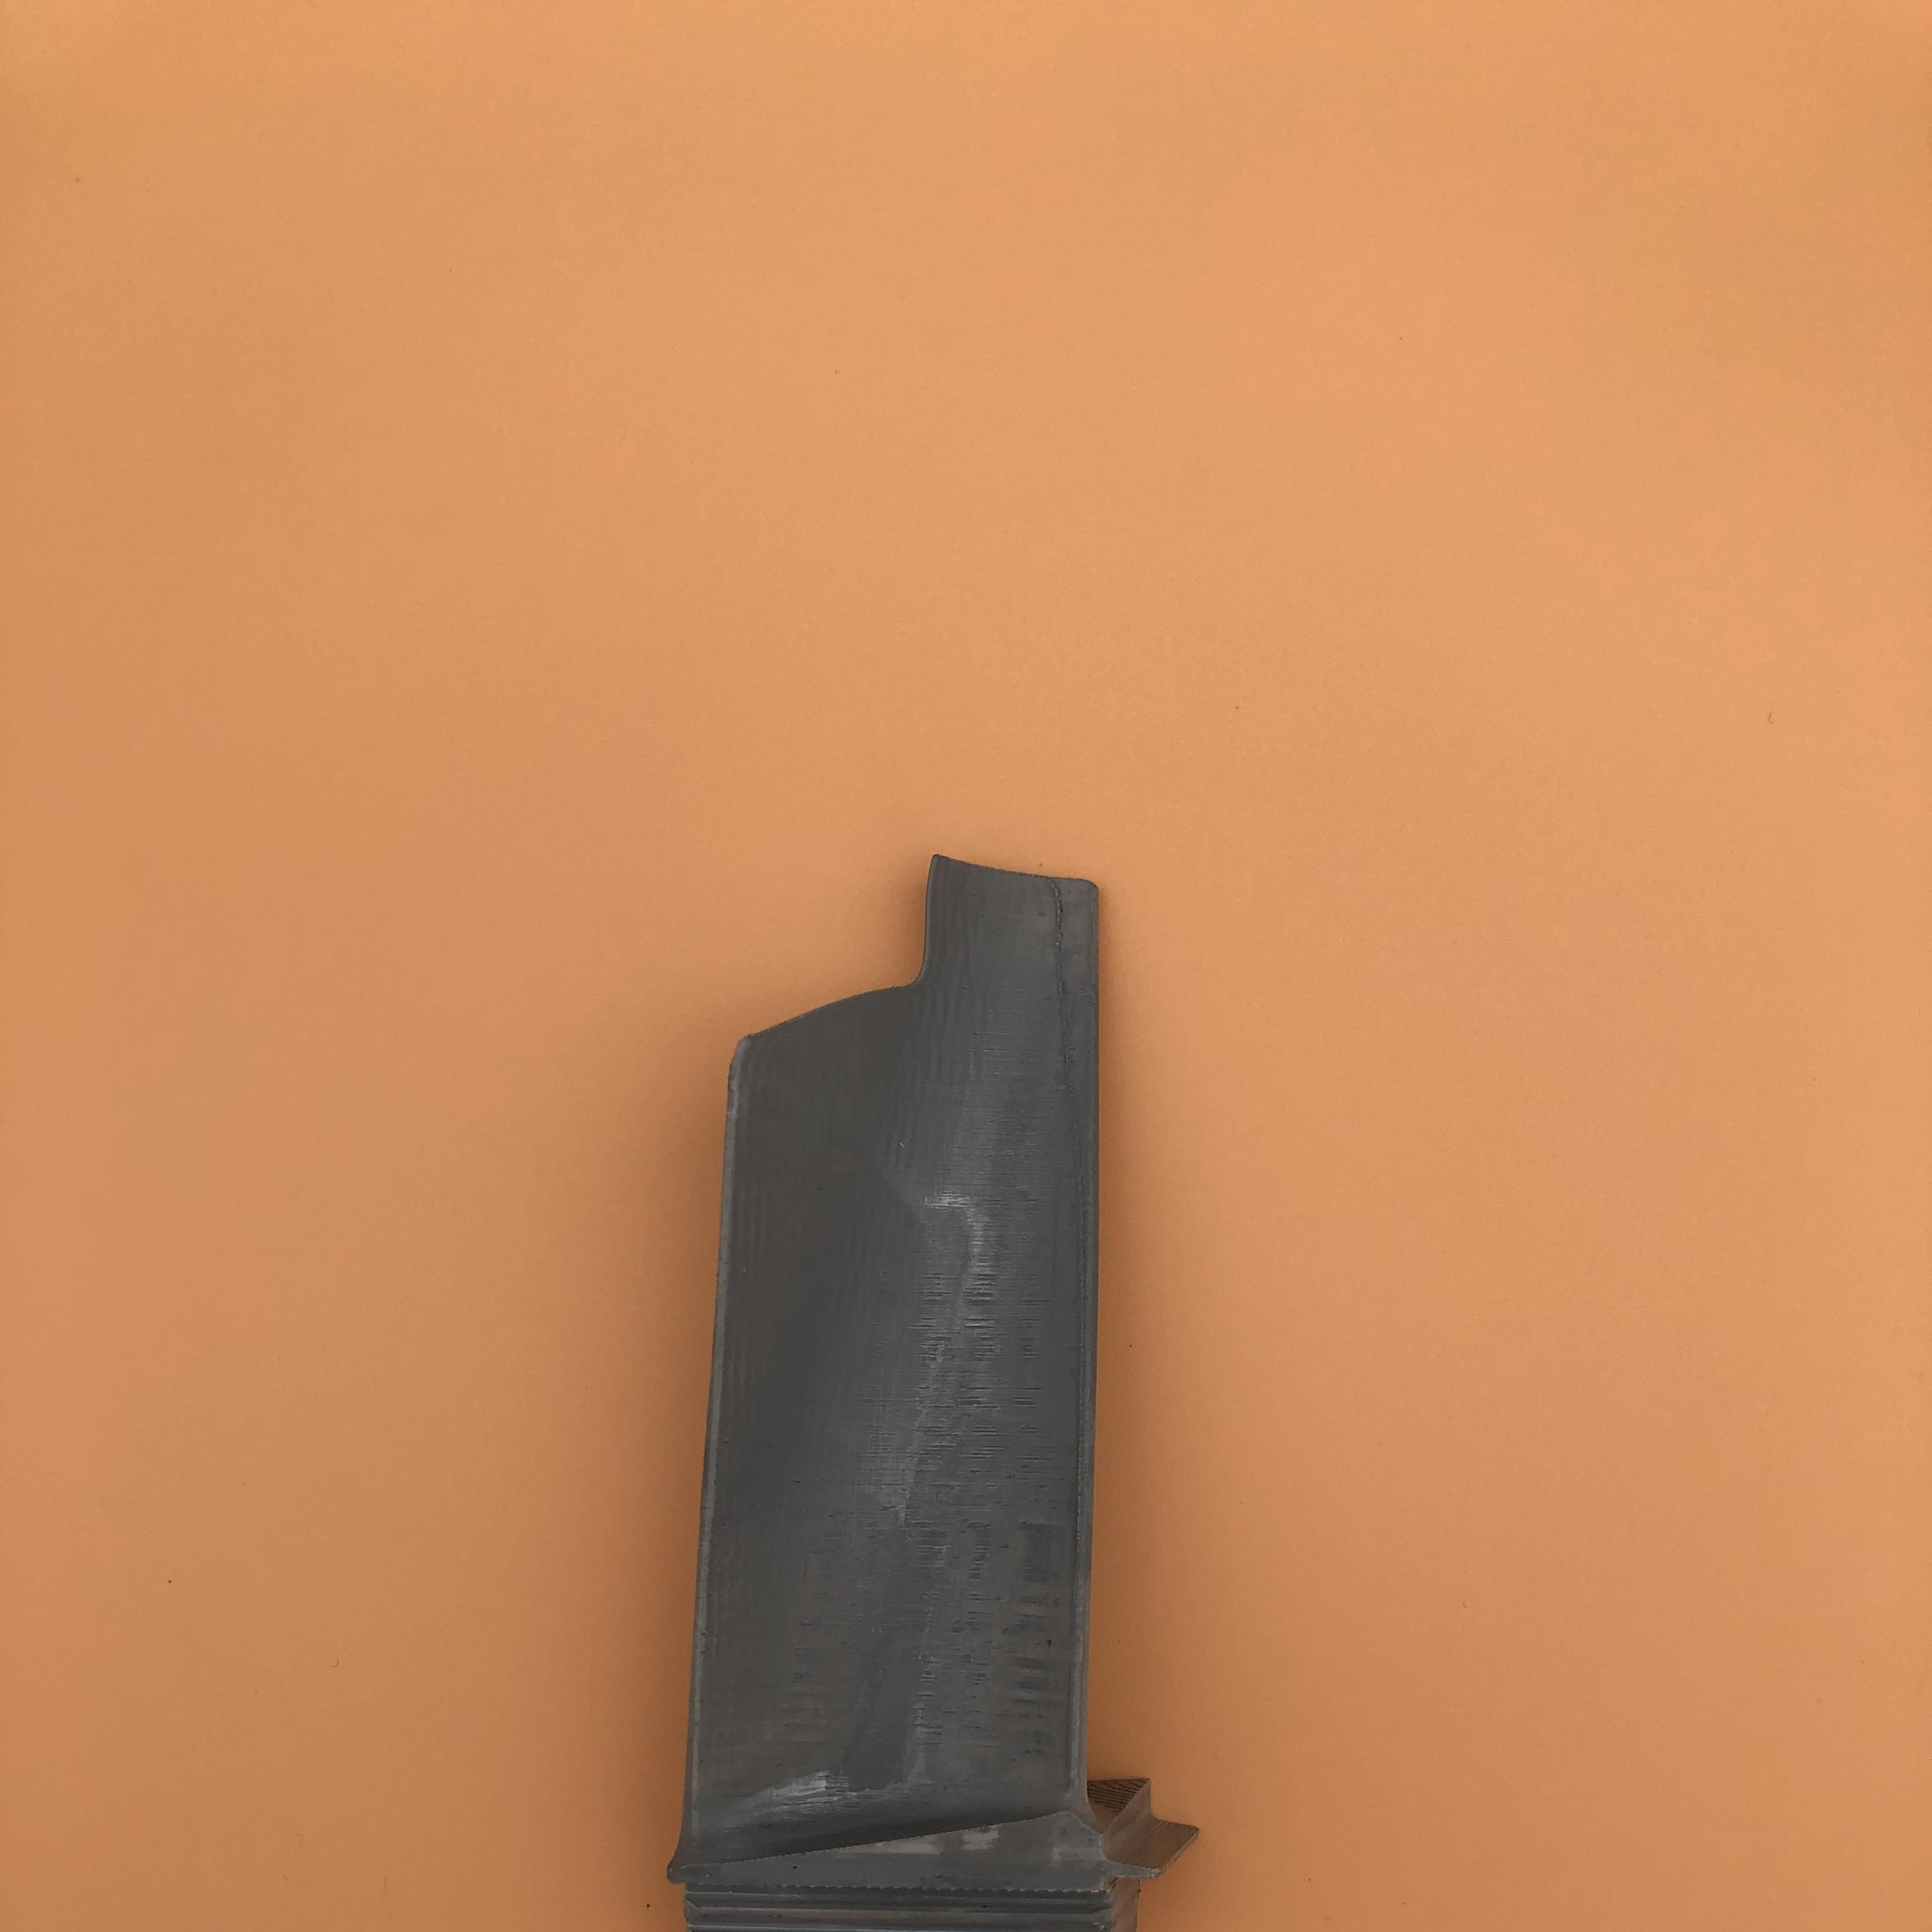fracture: (731, 865, 989, 1067)
